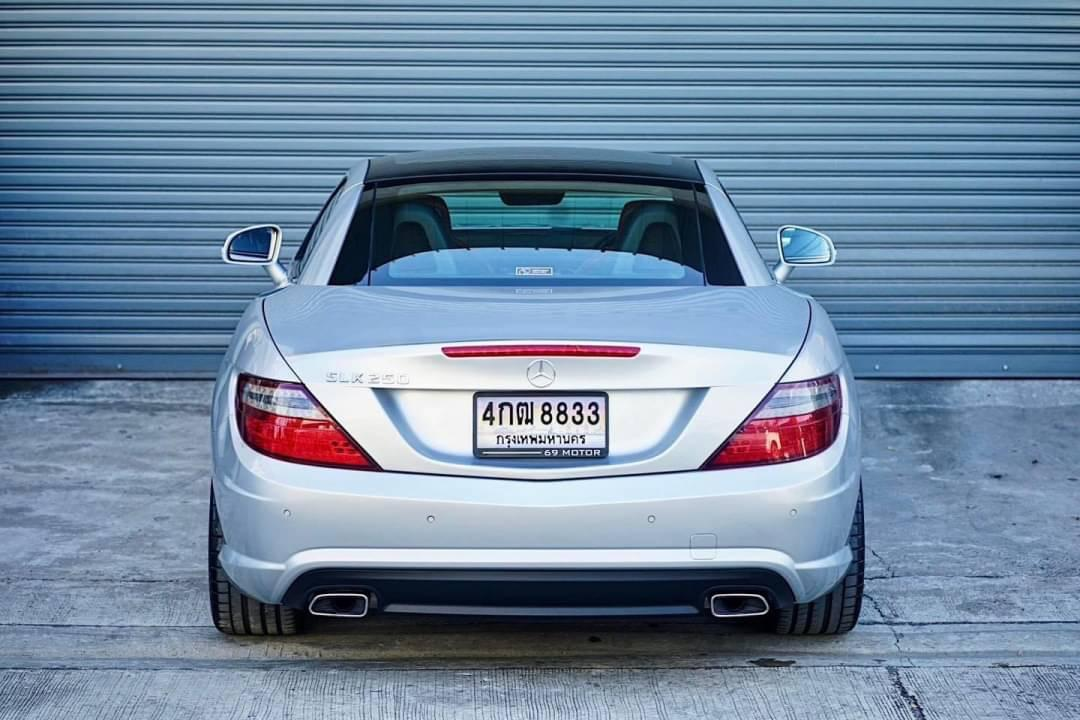license-plate: (469, 389, 610, 462)
